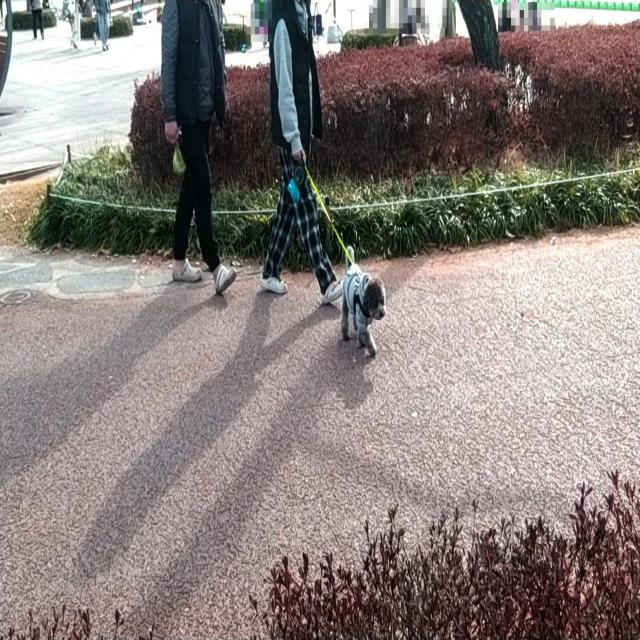Leashed_Dog: (282, 156, 386, 357)
